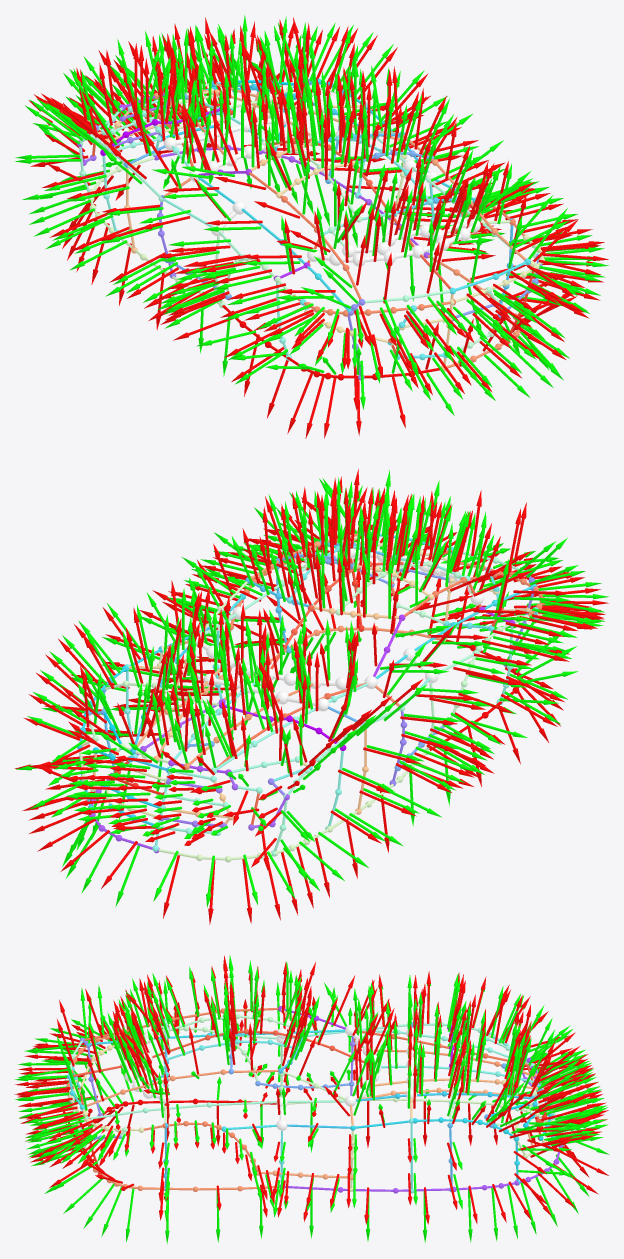
The model's file is ils_car5.gltf.
The picture shows the model from 3 angles, top to bottom: view 1: azimuth 30°, elevation 25°; view 2: azimuth 150°, elevation 25°; view 3: azimuth 270°, elevation 25°; orthographic projection. The views are drawn at different scales.
Size of the model in its own units: 0.6144 by 0.4291 by 1.06.
